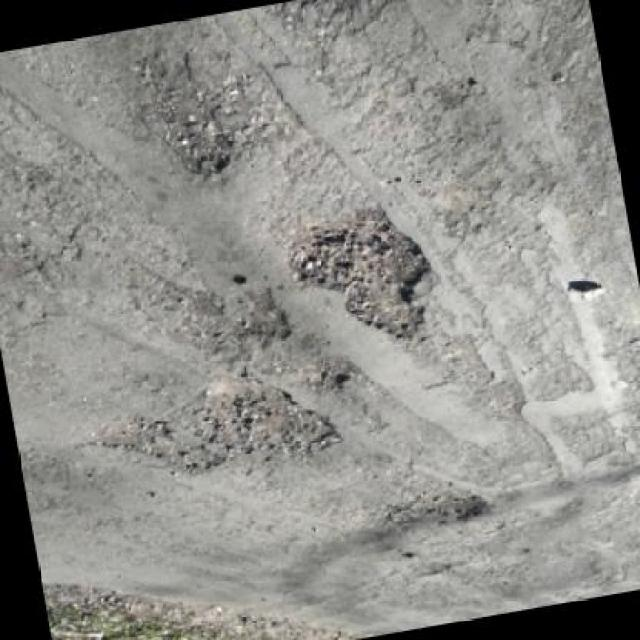pothole1: (274, 193, 449, 361), (188, 364, 348, 485), (132, 47, 240, 187), (84, 400, 227, 494), (166, 272, 294, 359), (400, 466, 494, 534), (291, 356, 357, 399)
